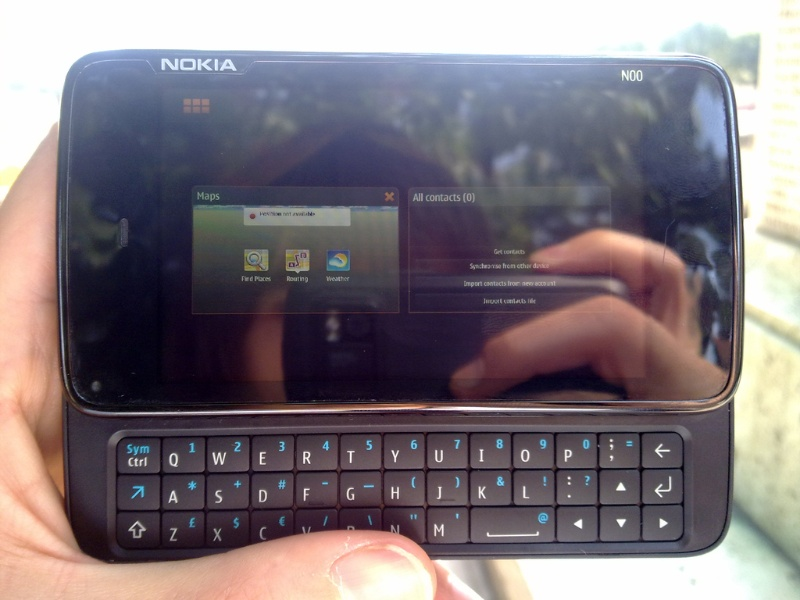cellphone: (58, 39, 757, 439)
